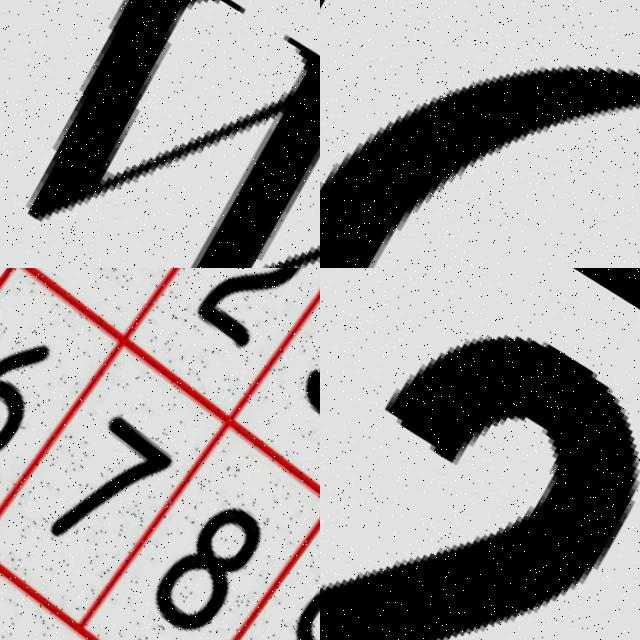2: (320, 268, 640, 640), (182, 268, 320, 355)
3: (287, 268, 320, 437)
6: (0, 302, 71, 485)
7: (27, 391, 180, 576)
8: (135, 473, 277, 640)
9: (244, 546, 320, 640)
G: (320, 0, 640, 268)
W: (0, 0, 320, 268)
